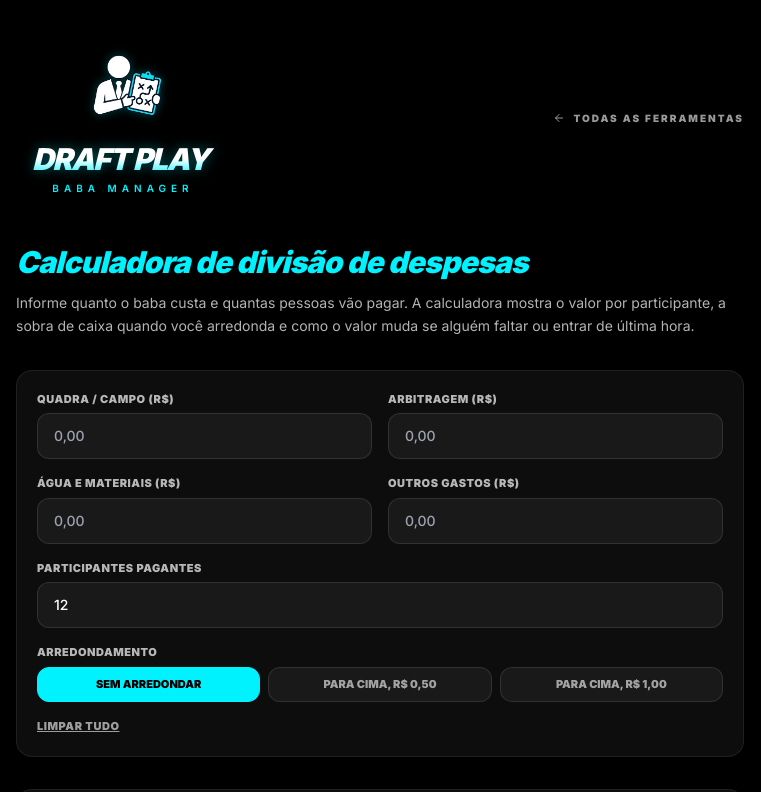
Divisão de despesas › R$ 200 / 12 pagantes → R$ 16,67 por pessoa
Type "150" into the field labelled "Quadra / campo (R$)".
click(204, 436); type("150")  # box [37,413,372,459]
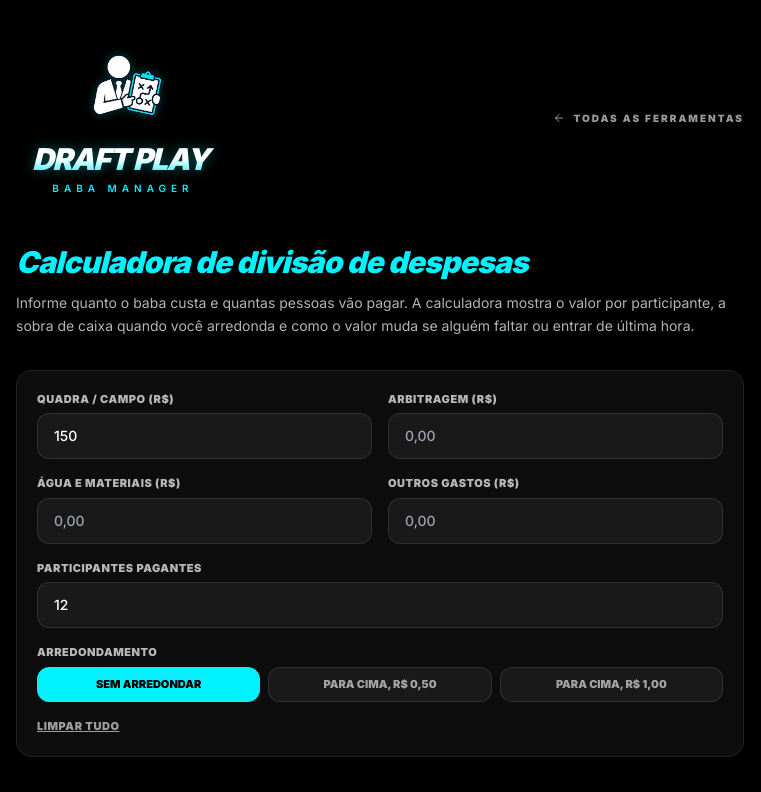
Type "50" into the field labelled "Arbitragem (R$)".
click(556, 436); type("50")  # box [388,413,723,459]
(page scrolled)
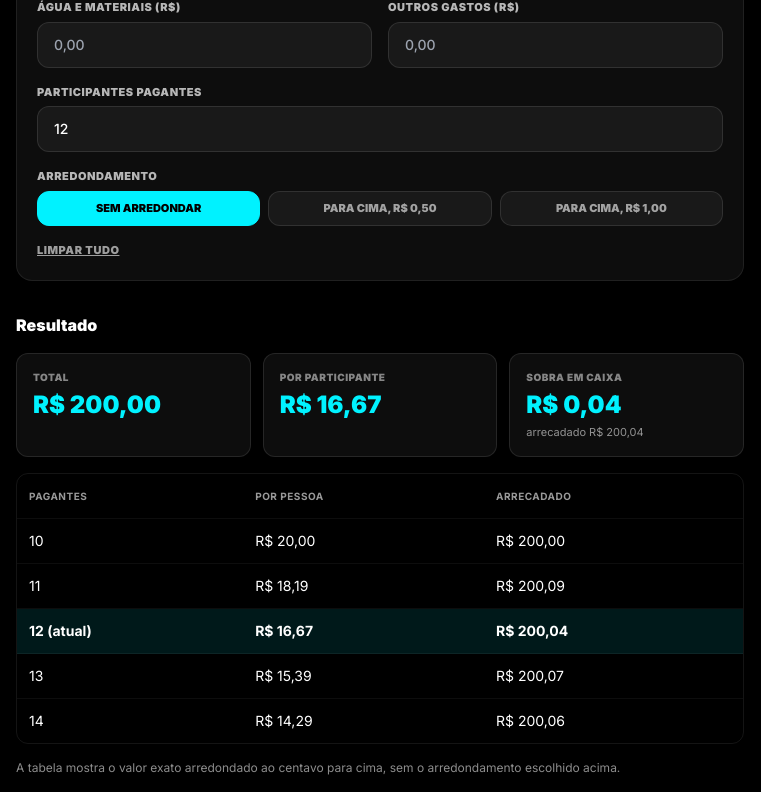
Check: the text "R$ 200,00" is shown, box [33,390,161,419]
Check: the text "R$ 16,67" is shown, box [280,390,382,419]
